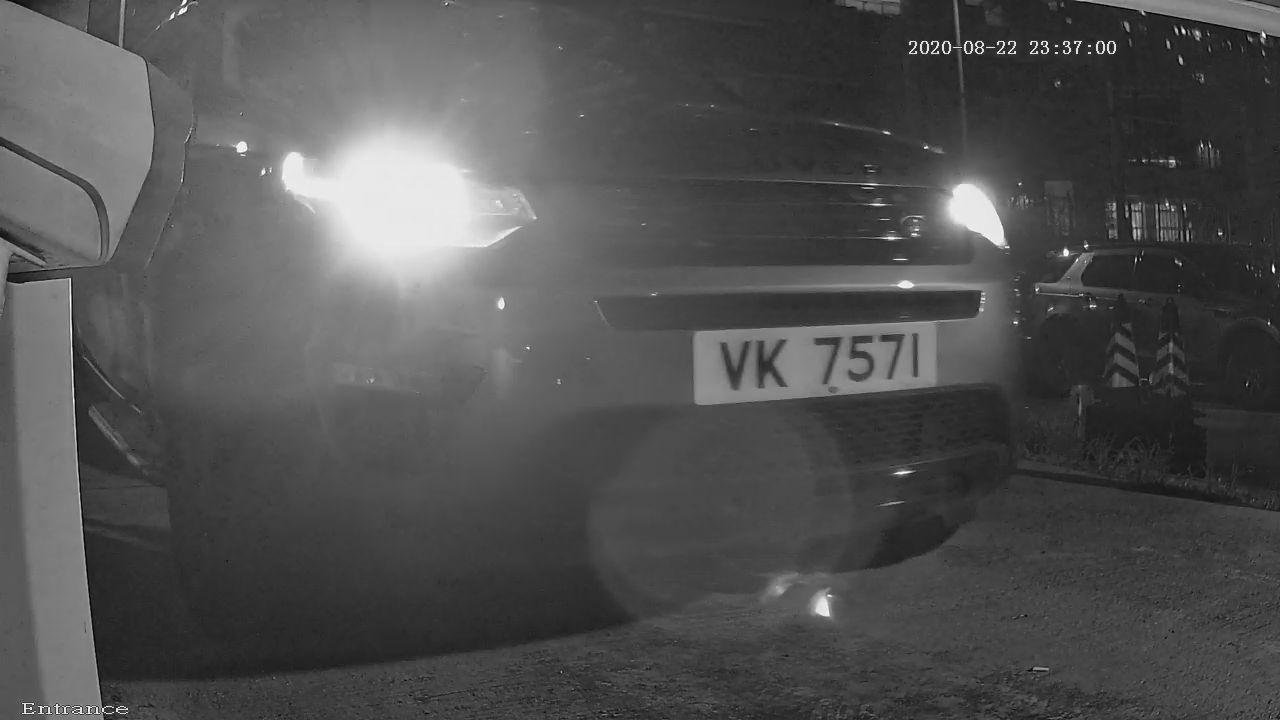Car: (29, 4, 1161, 592)
License Plate: (669, 306, 949, 422)
